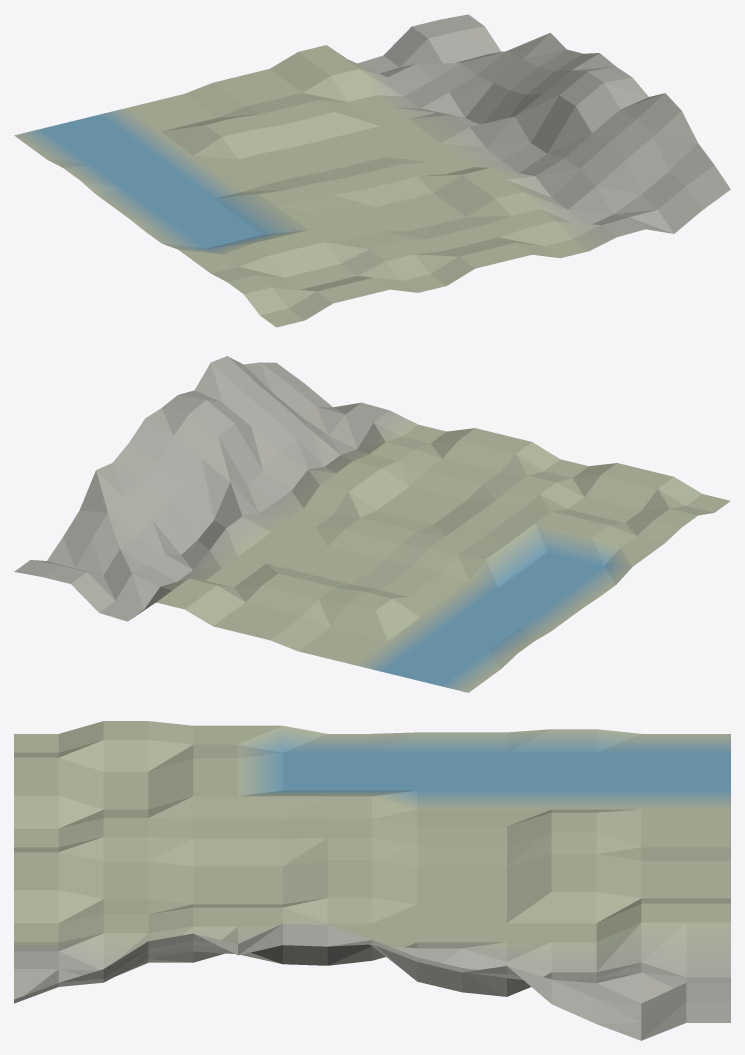
3 views of the same model, one above another, from view 1: azimuth 30°, elevation 25°; view 2: azimuth 150°, elevation 25°; view 3: azimuth 270°, elevation 25° (orthographic). The views are drawn at different scales.
Bounding box in the file's own units: 32 × 5.92 × 32.
